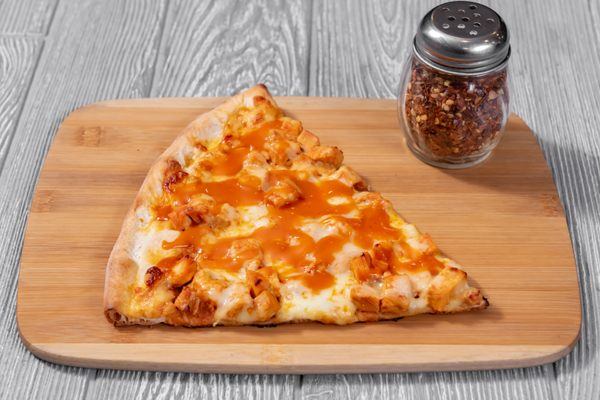burger: (397, 1, 512, 169)
curry: (15, 73, 597, 390)
sandwich: (104, 84, 492, 329)
